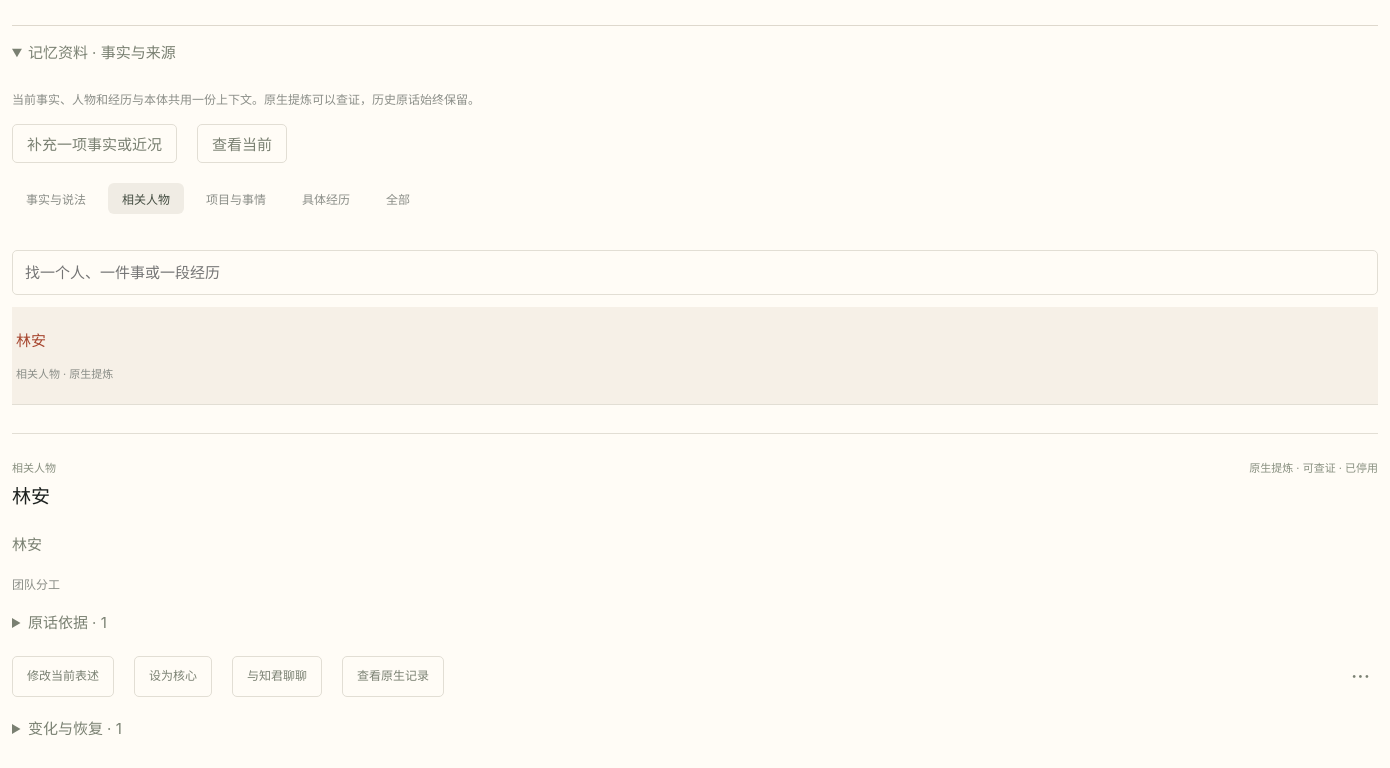
it: hides stopped items from daily view and retains a history and restore entry
The width and height of the screenshot is (1390, 768).
Click the button "查看当前". click: x=242, y=143
box: x1=197 y1=124 x2=287 y2=163
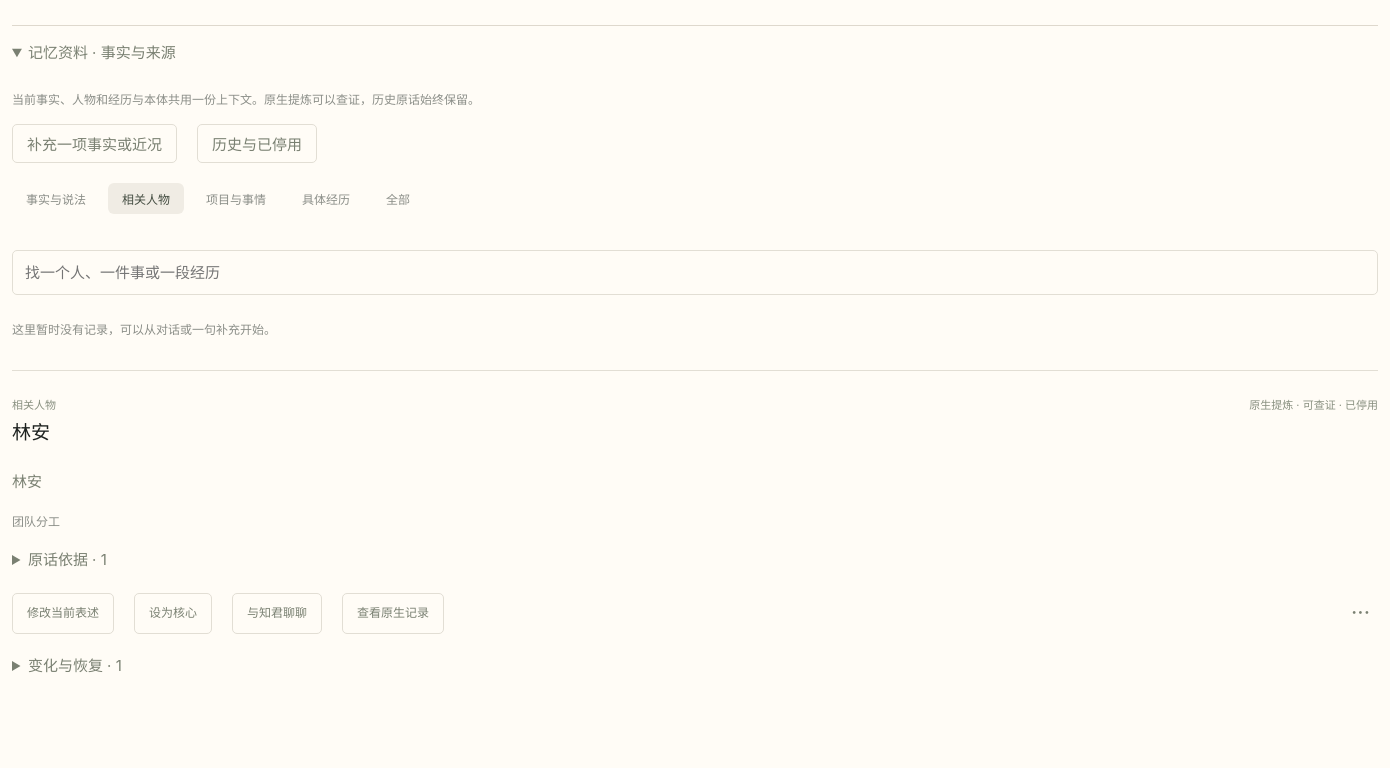
expect the text "这里暂时没有记录，可以从对话或一句补充开始。" is shown: met, box x1=12 y1=322 x2=276 y2=337
